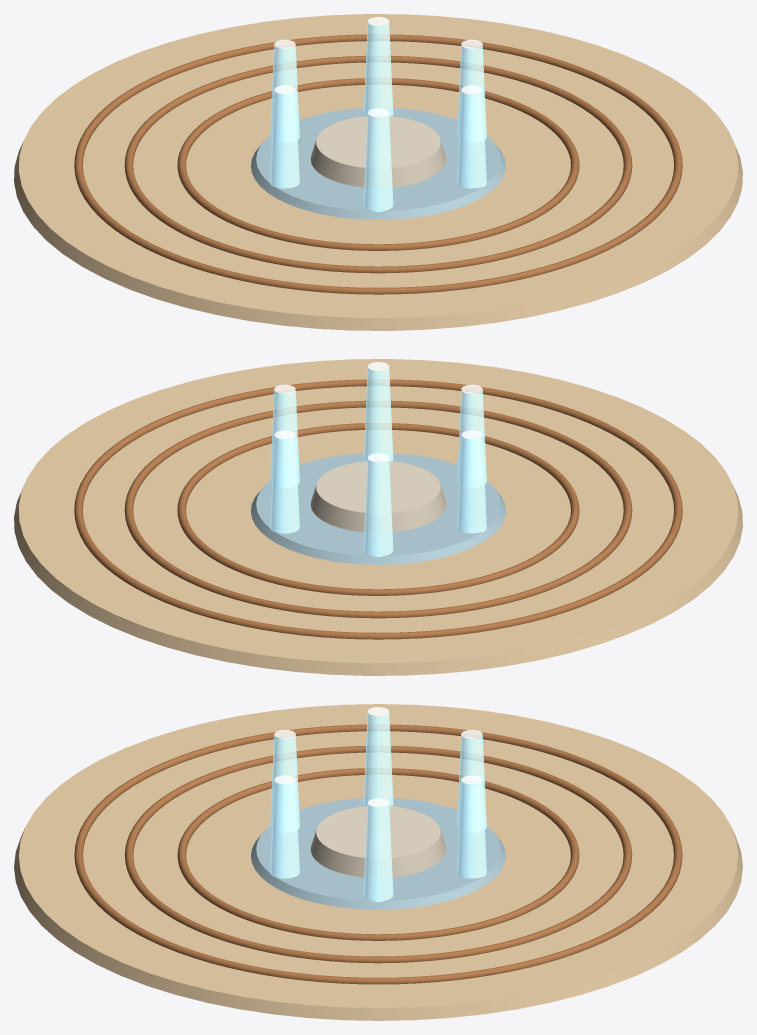
Rendered from arena-reference.glb.
3 views of the same model, one above another, from view 1: azimuth 30°, elevation 25°; view 2: azimuth 150°, elevation 25°; view 3: azimuth 270°, elevation 25° (orthographic).
Parts seen in each view (by area): view 1: Plaza, FountainBase, Ring_12_5, Ring_10_4, Pedestal, Ring_8_2, FountainJet_3, FountainJet_4, FountainJet_2, FountainJet_6, FountainJet_1, FountainJet_5; view 2: Plaza, FountainBase, Ring_12_5, Ring_10_4, Pedestal, Ring_8_2, FountainJet_5, FountainJet_4, FountainJet_6, FountainJet_2, FountainJet_1, FountainJet_3; view 3: Plaza, FountainBase, Ring_12_5, Ring_10_4, Pedestal, Ring_8_2, FountainJet_1, FountainJet_2, FountainJet_6, FountainJet_4, FountainJet_3, FountainJet_5.
Part boxes in pixels (x1,y1,x2,y2): Plaza: (14,14,742,330); FountainBase: (251,108,505,219); Ring_12_5: (74,34,682,294); Ring_10_4: (124,55,632,273); Pedestal: (310,116,446,187); Ring_8_2: (177,78,579,250); FountainJet_3: (363,108,393,211); FountainJet_4: (270,85,299,188); FountainJet_2: (457,85,486,188); FountainJet_6: (363,17,393,116); FountainJet_1: (457,39,486,139); FountainJet_5: (270,39,299,139); Plaza: (14,359,742,675); FountainBase: (251,453,505,564); Ring_12_5: (74,379,682,639); Ring_10_4: (124,400,632,618); Pedestal: (310,461,446,532); Ring_8_2: (177,423,579,595); FountainJet_5: (363,453,393,556); FountainJet_4: (457,430,486,533); FountainJet_6: (270,430,299,533); FountainJet_2: (363,362,393,461); FountainJet_1: (270,384,299,484); FountainJet_3: (457,384,486,484); Plaza: (14,704,742,1020); FountainBase: (251,798,505,909); Ring_12_5: (74,724,682,984); Ring_10_4: (124,746,632,963); Pedestal: (310,806,446,877); Ring_8_2: (177,768,579,940); FountainJet_1: (363,798,393,902); FountainJet_2: (270,775,299,878); FountainJet_6: (457,775,486,878); FountainJet_4: (363,707,393,806); FountainJet_3: (270,729,299,829); FountainJet_5: (457,729,486,829).
Size of the model in its own units: 30.4 by 5.05 by 30.4.
